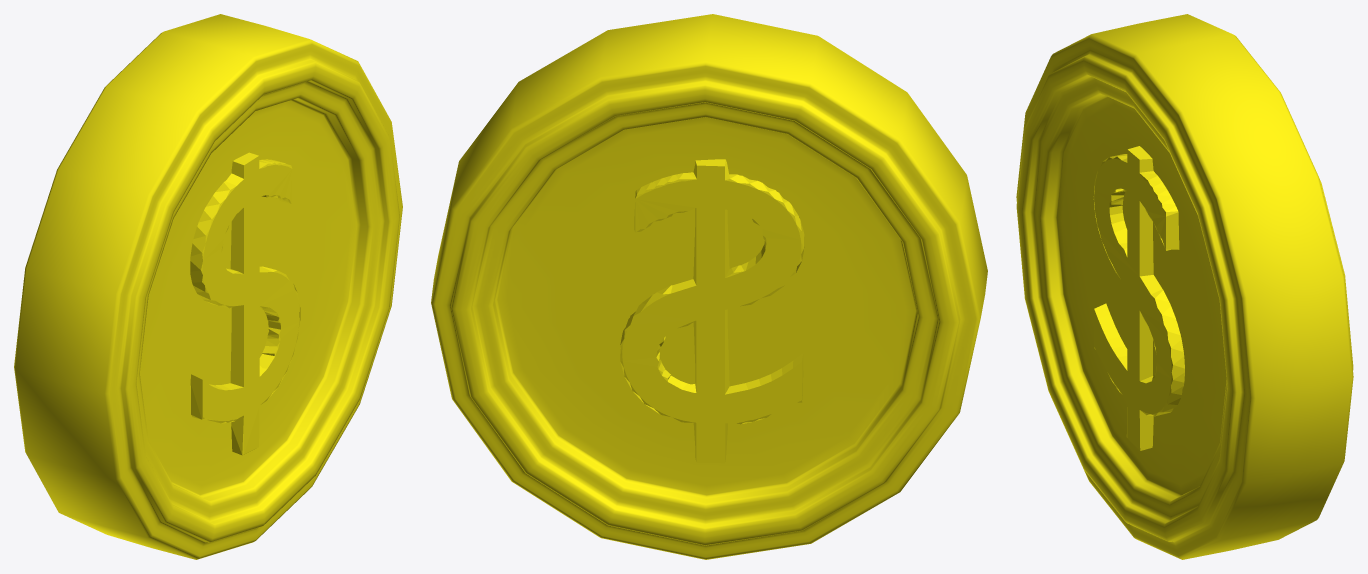
File: rgr-coin-animated 1.fbx
The picture shows the model from 3 angles, left to right: view 1: azimuth 30°, elevation 25°; view 2: azimuth 150°, elevation 25°; view 3: azimuth 270°, elevation 25°; orthographic projection. The views are drawn at different scales.
Visible parts, largest first — view 1: Coin; view 2: Coin; view 3: Coin.
Boxes of the visible parts, x1=… form: Coin: x1=14, y1=14, x2=402, y2=559; Coin: x1=431, y1=14, x2=987, y2=559; Coin: x1=1016, y1=14, x2=1353, y2=559.
Bounding box in the file's own units: 71.5 × 72.77 × 45.71.
